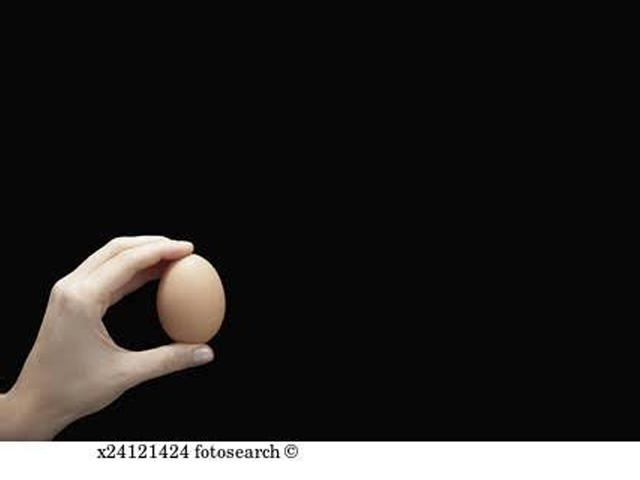egg: (157, 251, 224, 344)
